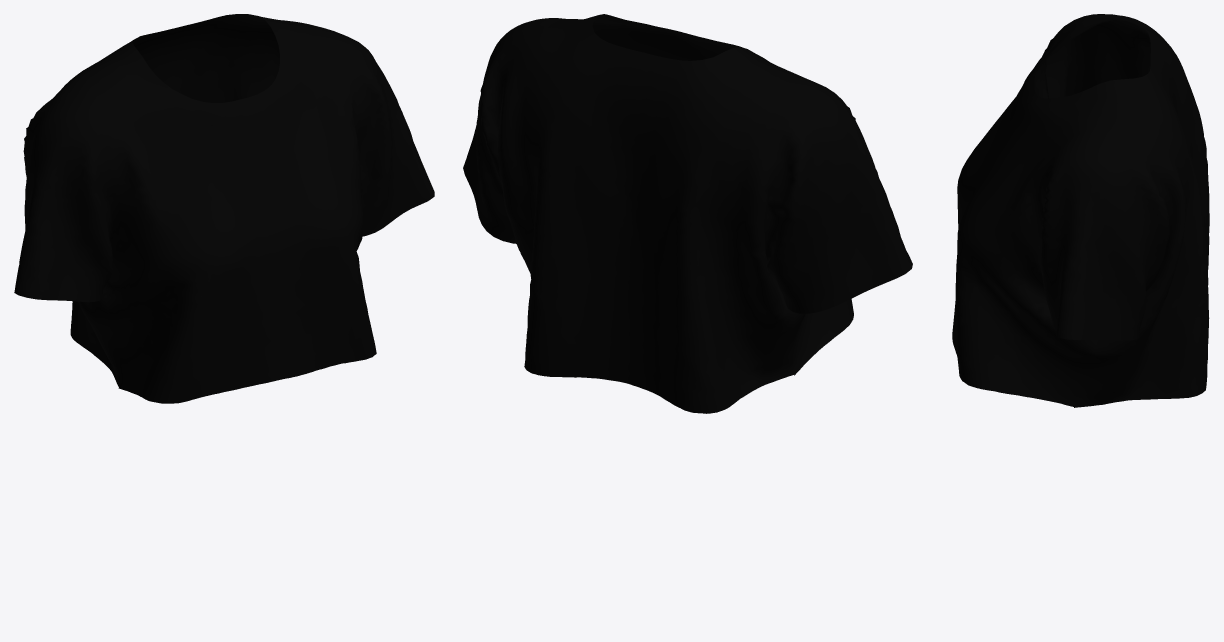
The model's file is croppedshirtf.glb.
The picture shows the model from 3 angles, left to right: view 1: azimuth 30°, elevation 25°; view 2: azimuth 150°, elevation 25°; view 3: azimuth 270°, elevation 25°; orthographic projection. The views are drawn at different scales.
Parts seen in each view (by area): view 1: Object_0 - piece, Object_0 - piece 29, Object_0 - piece 31, Object_0 - piece 32; view 2: Object_0 - piece 29, Object_0 - piece 31, Object_0 - piece, Object_0 - piece 32; view 3: Object_0 - piece, Object_0 - piece 29, Object_0 - piece 32, Object_0 - piece 31.
Boxes of the visible parts, x1,y1,x2,y2 form: Object_0 - piece: (52, 27, 380, 403); Object_0 - piece 29: (28, 14, 366, 386); Object_0 - piece 31: (14, 126, 112, 302); Object_0 - piece 32: (358, 57, 434, 236); Object_0 - piece 29: (480, 14, 845, 413); Object_0 - piece 31: (767, 113, 912, 313); Object_0 - piece: (532, 14, 853, 375); Object_0 - piece 32: (463, 52, 516, 243); Object_0 - piece: (952, 14, 1101, 406); Object_0 - piece 29: (1074, 14, 1209, 407); Object_0 - piece 32: (1041, 176, 1169, 340); Object_0 - piece 31: (1045, 23, 1150, 98).
Size of the model in its own units: 0.515 by 0.61 by 0.29.
Materials: 1 (1 with a texture image).
